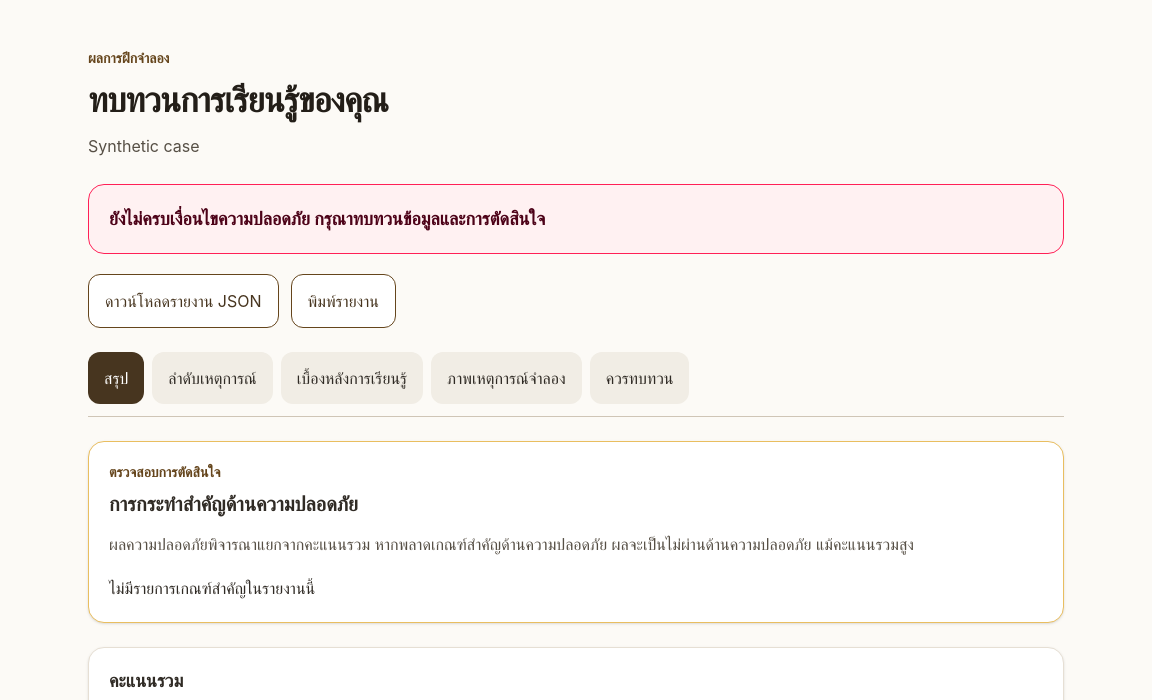
Scenario: T-053 Report › shows timeline and only improvement references in their respective tabs
Check: the element named "ทบทวนการเรียนรู้ของคุณ" is shown, box [88,352,1064,417]
Click the tab "ลำดับเหตุการณ์" at (212, 378), box [152,352,273,404]
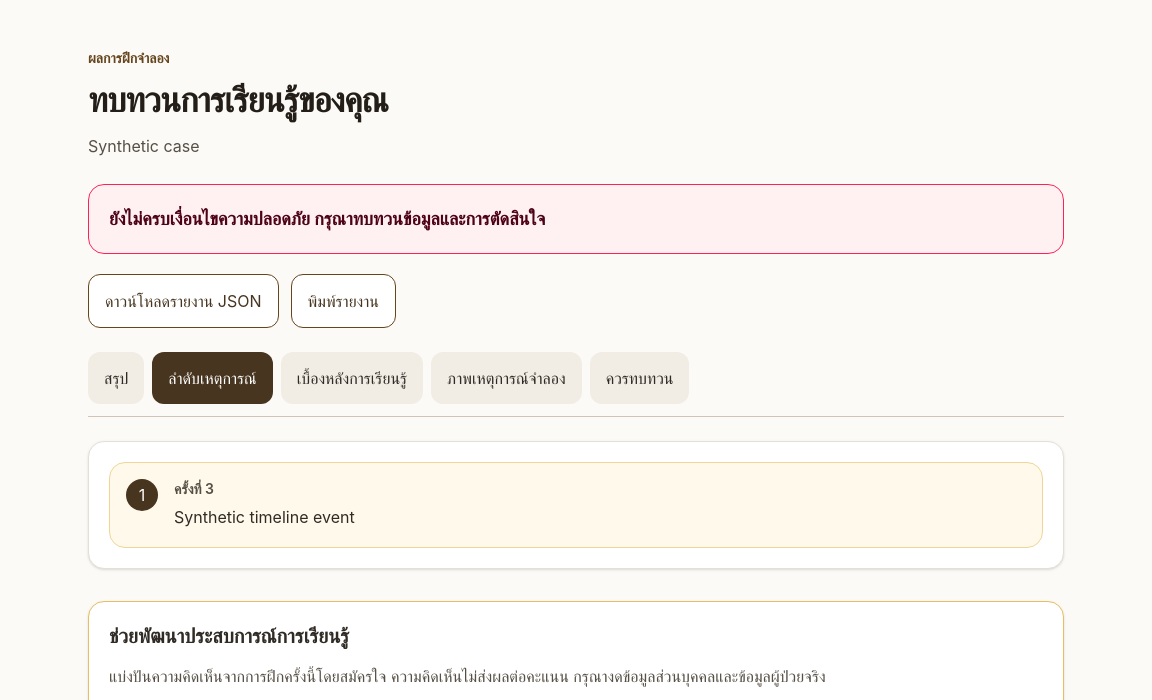
Check: the text "Synthetic timeline event" is shown, box [174,503,355,531]
Click the tab "ควรทบทวน" at (640, 378), box [590,352,690,404]
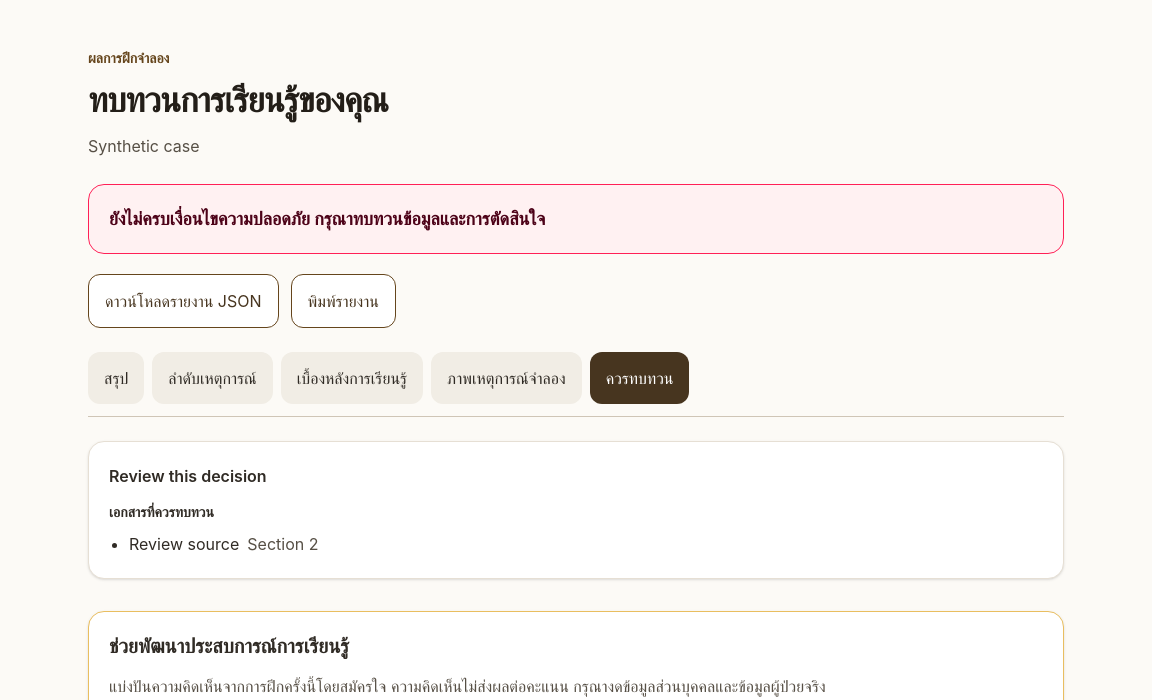
Check: the text "Review this decision" is shown, box [109,466,267,486]
Check: the list item "Review source" is shown, box [129,534,239,554]
Check: the text "Section 2" is shown, box [247,534,318,554]
